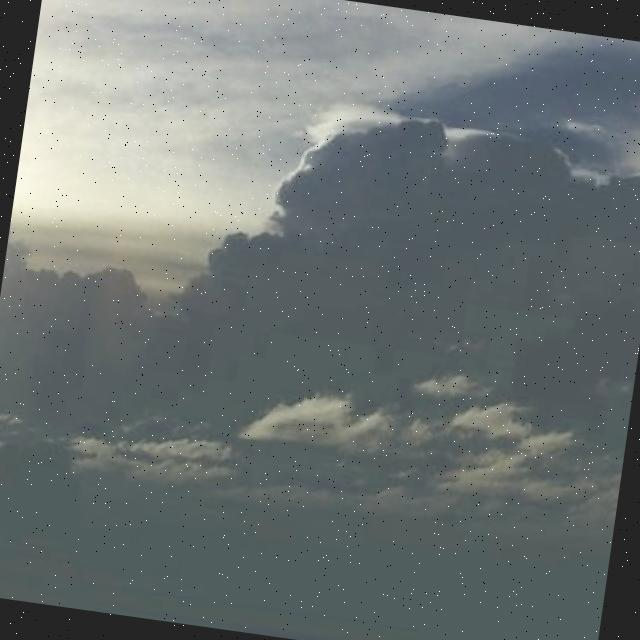St: (1, 13, 640, 640)
